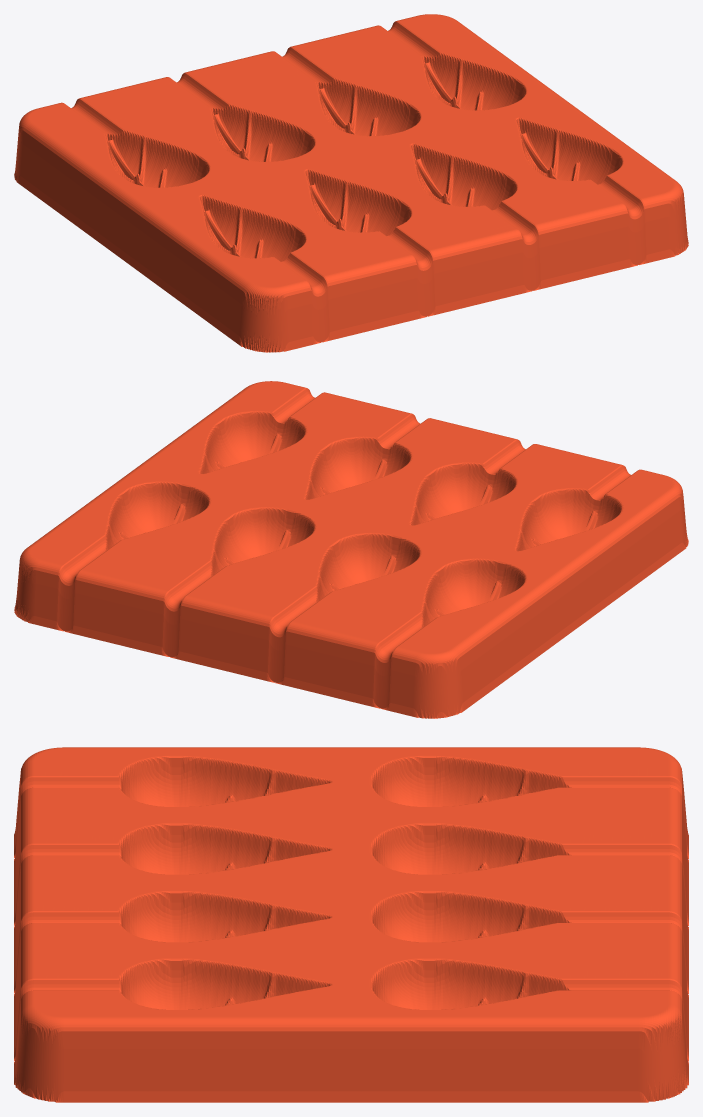
File: mold.glb
3 views of the same model, one above another, from view 1: azimuth 30°, elevation 25°; view 2: azimuth 150°, elevation 25°; view 3: azimuth 270°, elevation 25° (orthographic). The views are drawn at different scales.
Visible parts, largest first — view 1: geometry_0; view 2: geometry_0; view 3: geometry_0.
Part boxes in pixels (box(x1,y1,x2,y2)): geometry_0: box(14, 14, 688, 352); geometry_0: box(14, 381, 688, 718); geometry_0: box(14, 747, 688, 1102).
Bounding box in the file's own units: 0.1229 × 0.0155 × 0.1229.
